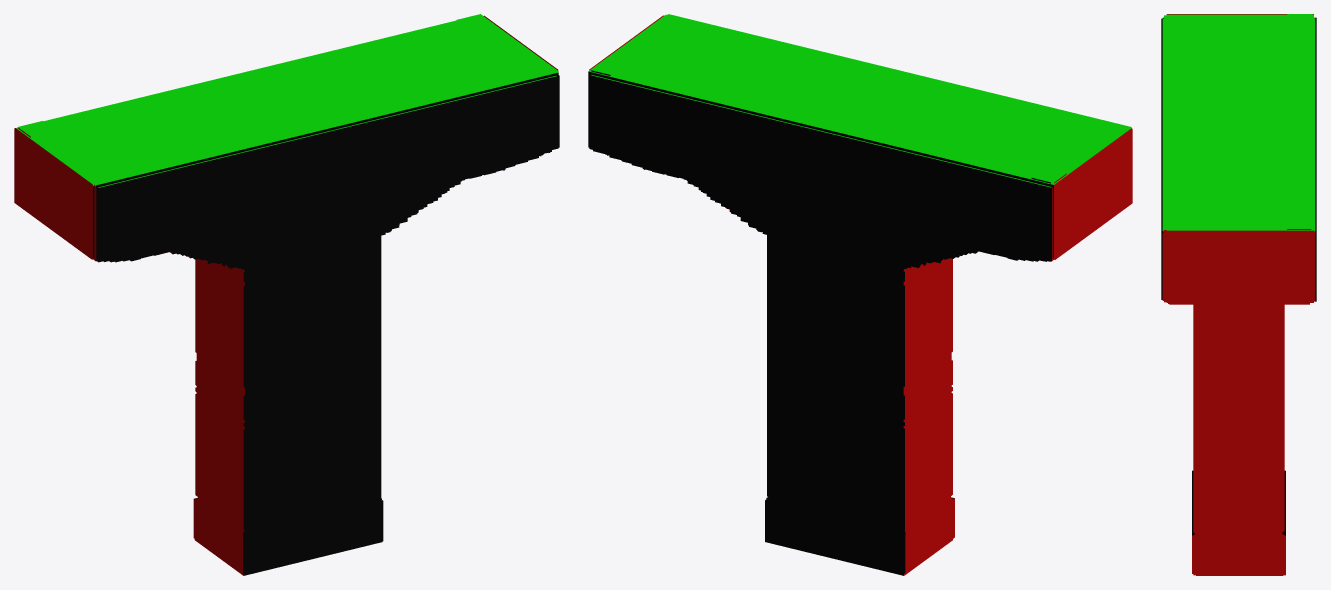
Rendered from city_pier.glb.
3 views of the same model, side by side, from view 1: azimuth 30°, elevation 25°; view 2: azimuth 150°, elevation 25°; view 3: azimuth 270°, elevation 25° (orthographic). The views are drawn at different scales.
Parts seen in each view (by area): view 1: city_pier; view 2: city_pier; view 3: city_pier.
Part boxes in pixels (bbox=[...]): city_pier: bbox=[14, 14, 559, 575]; city_pier: bbox=[588, 14, 1132, 575]; city_pier: bbox=[1161, 14, 1316, 575].
Size of the model in its own units: 12.09 by 11 by 3.66.
